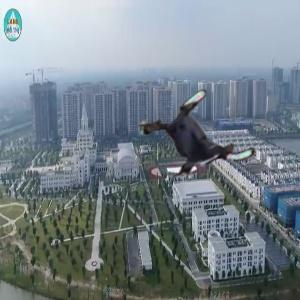drone: (144, 87, 250, 193)
